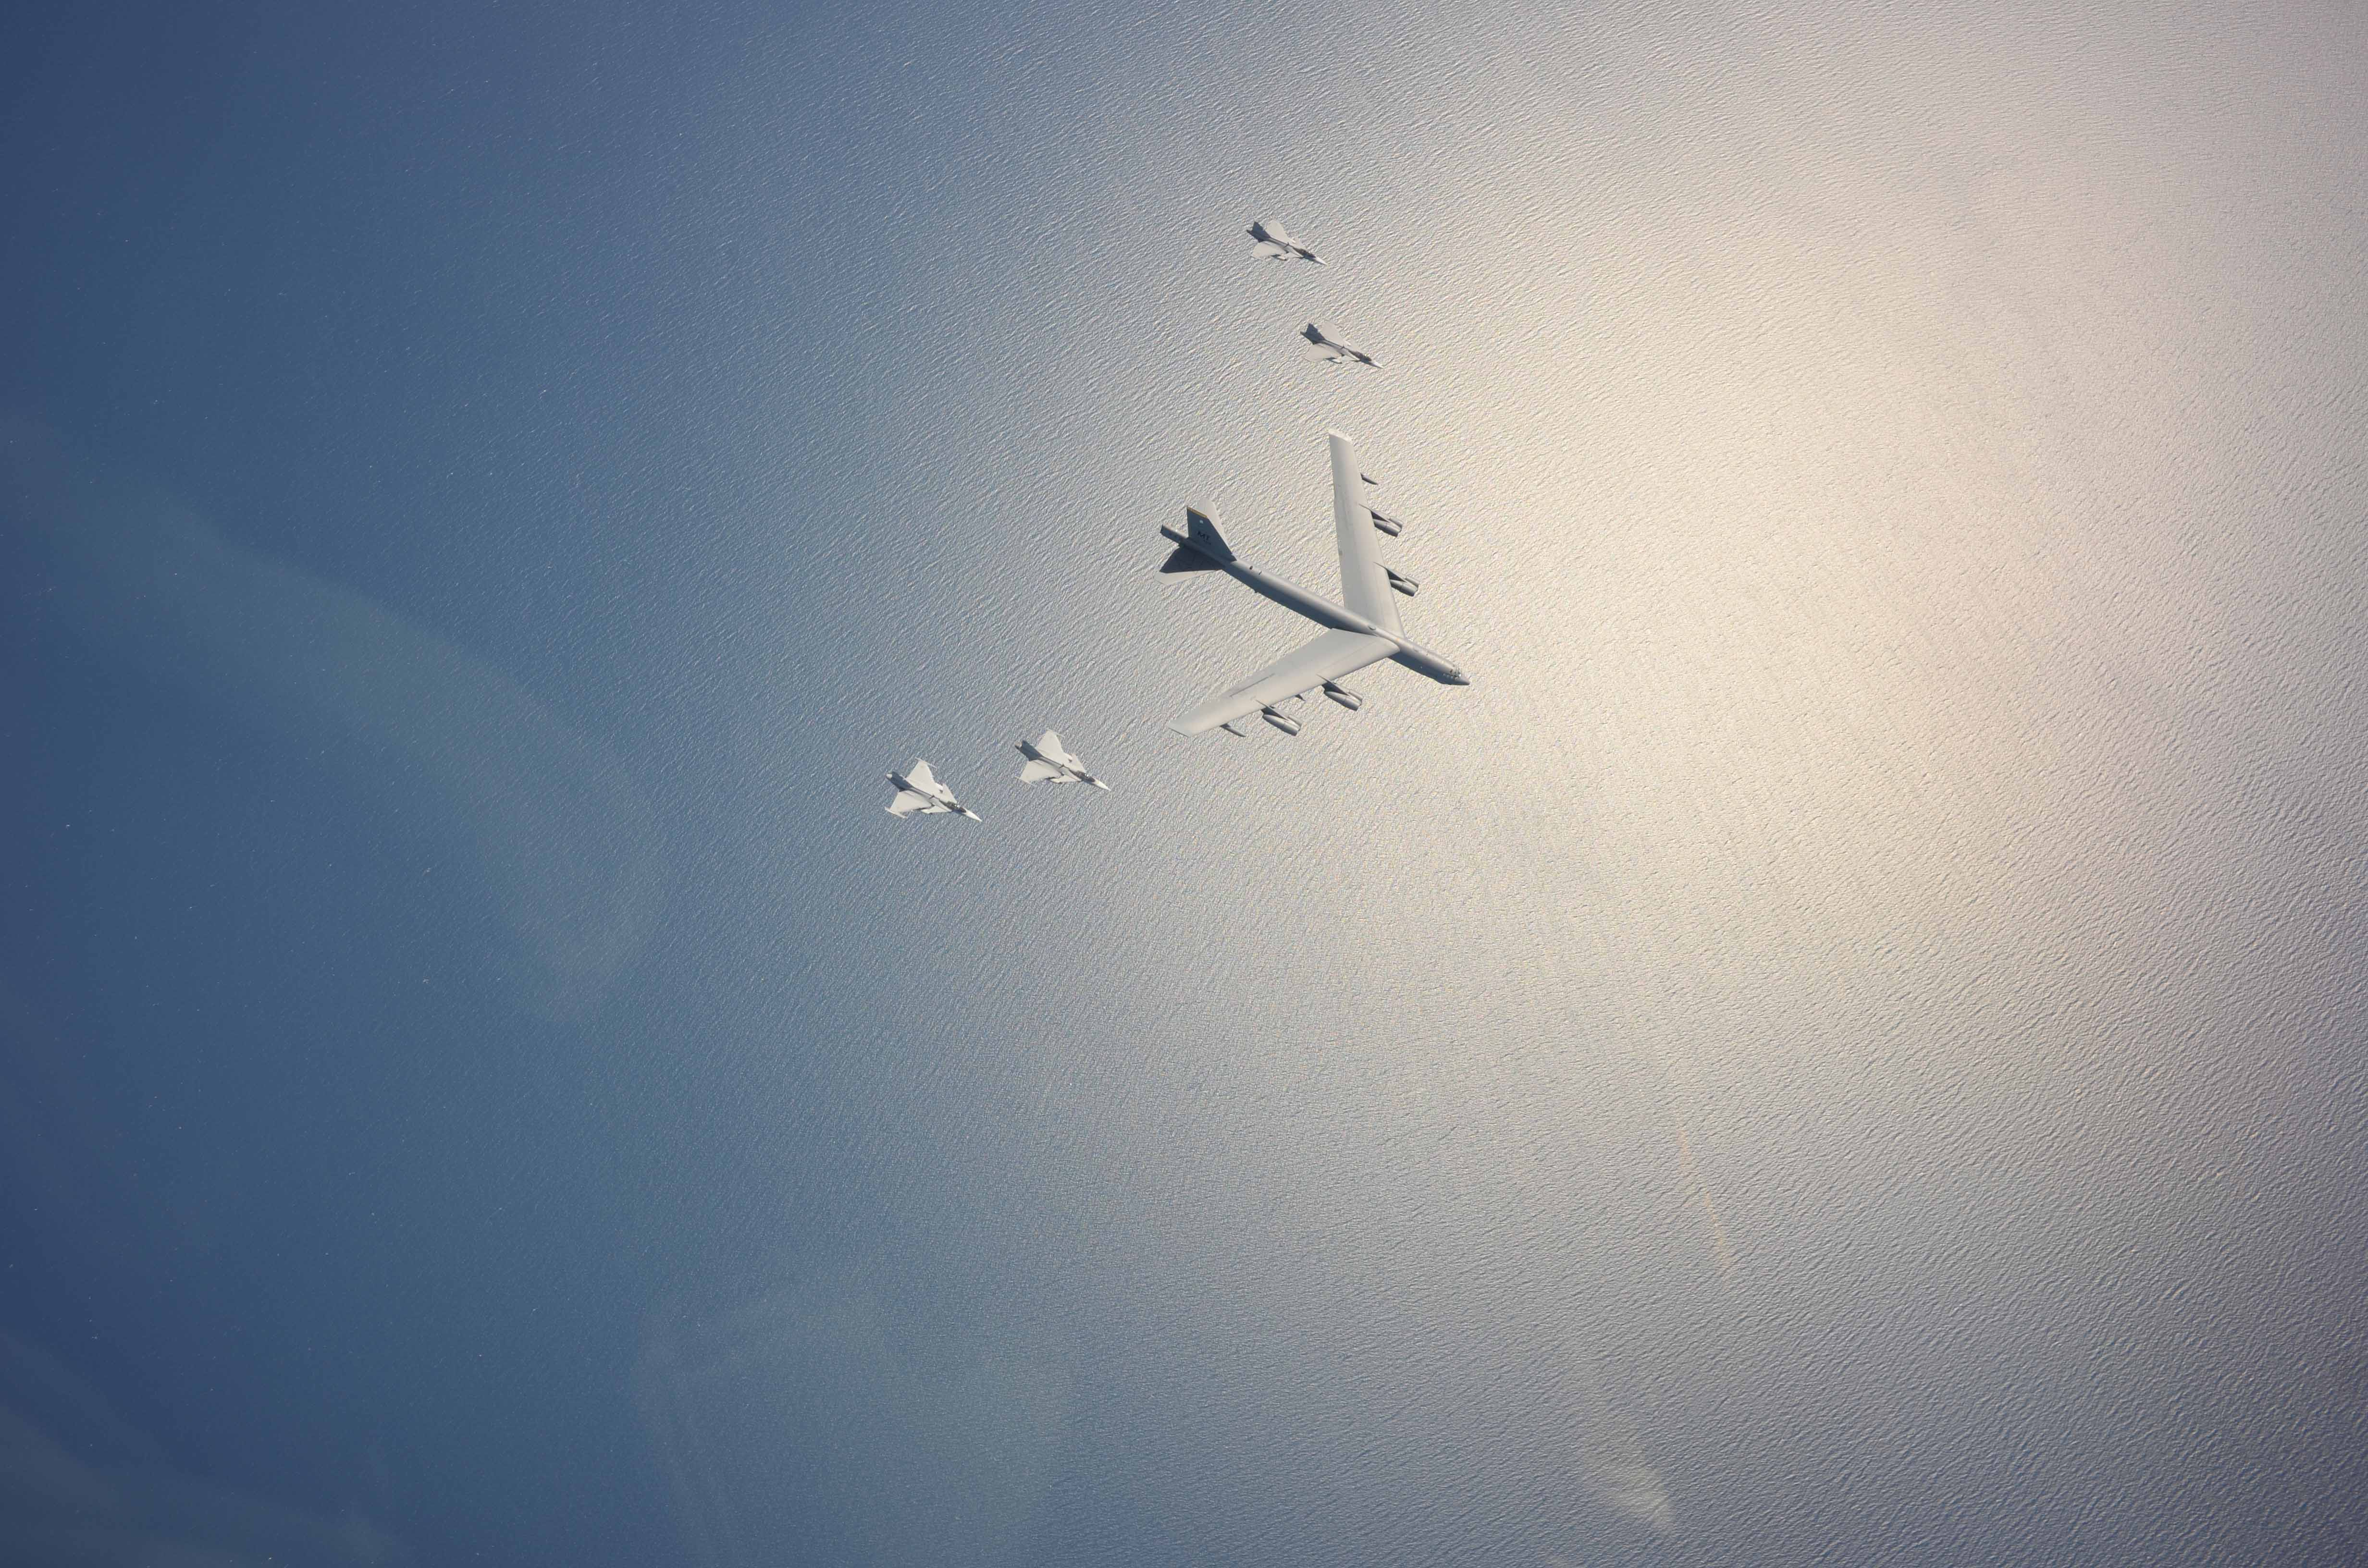B52: (1153, 429, 1470, 738)
JAS39: (884, 756, 982, 822), (1012, 728, 1111, 791), (1299, 318, 1384, 369), (1246, 219, 1328, 266)
